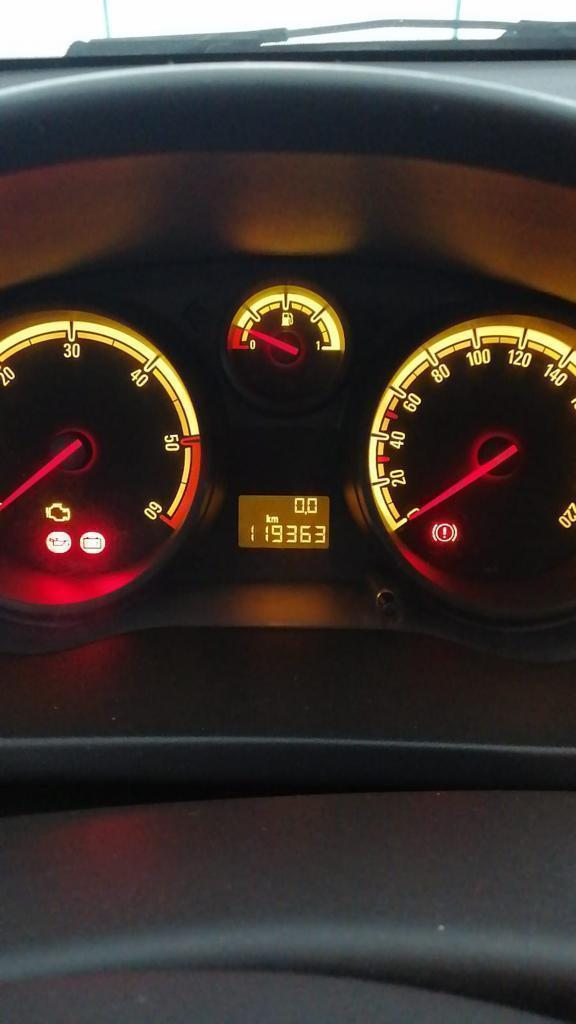,: (304, 509, 308, 515)
0: (294, 496, 305, 514), (307, 496, 318, 513)
1: (249, 522, 256, 544), (263, 524, 269, 543)
3: (284, 523, 297, 544), (313, 524, 326, 544)
6: (299, 524, 312, 543)
9: (270, 523, 283, 543)
X: (270, 515, 279, 523), (265, 512, 270, 523)
odometer: (236, 491, 333, 552)
